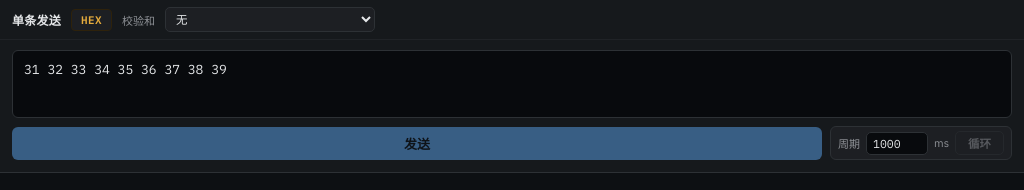
Scenario: 帧尾控件 › 切换算法后结果与字节序都跟着变
Select "CRC-16/IBM-3740 (CCITT-FALSE)" in the dropdown labelled "校验和" at (270, 20), box [165, 7, 375, 32]
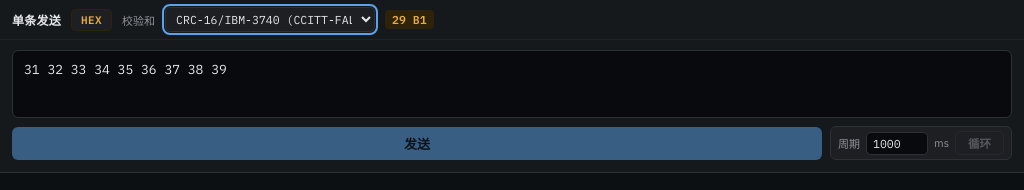
Now the text "29 B1" is shown, box [385, 10, 434, 29]
Select "CRC-32/ISO-HDLC" in the dropdown labelled "校验和" at (270, 20), box [165, 7, 375, 32]
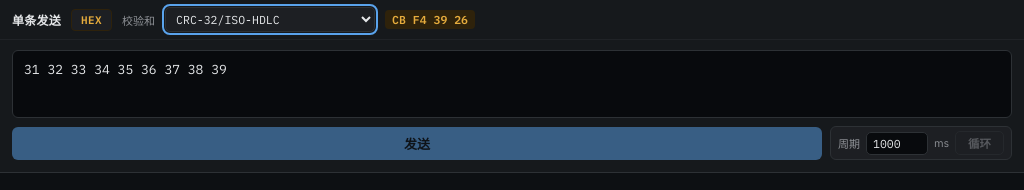
Now the text "CB F4 39 26" is shown, box [385, 10, 475, 29]
Select "XOR8 (LRC)" in the dropdown labelled "校验和" at (270, 20), box [165, 7, 375, 32]
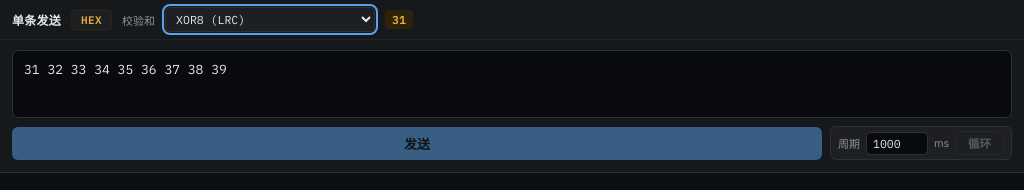
Now the text "31" is shown, box [385, 10, 413, 29]
